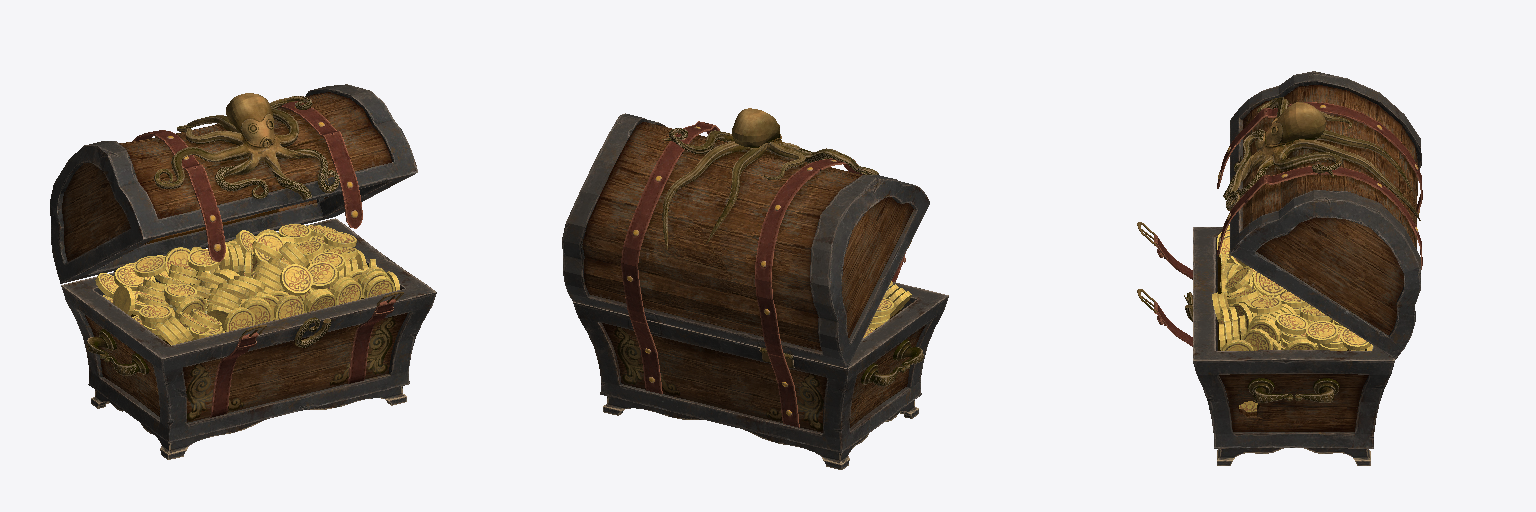
3 views of the same model, side by side, from view 1: azimuth 30°, elevation 25°; view 2: azimuth 150°, elevation 25°; view 3: azimuth 270°, elevation 25° (orthographic).
Visible parts, largest first — view 1: obj1; view 2: obj1; view 3: obj1.
Boxes of the visible parts, <box> form: obj1: <box>50,84,436,459</box>; obj1: <box>562,108,948,469</box>; obj1: <box>1137,71,1422,465</box>.
Size of the model in its own units: 14.76 by 14.6 by 12.44.
Materials: 1 (1 with a texture image).